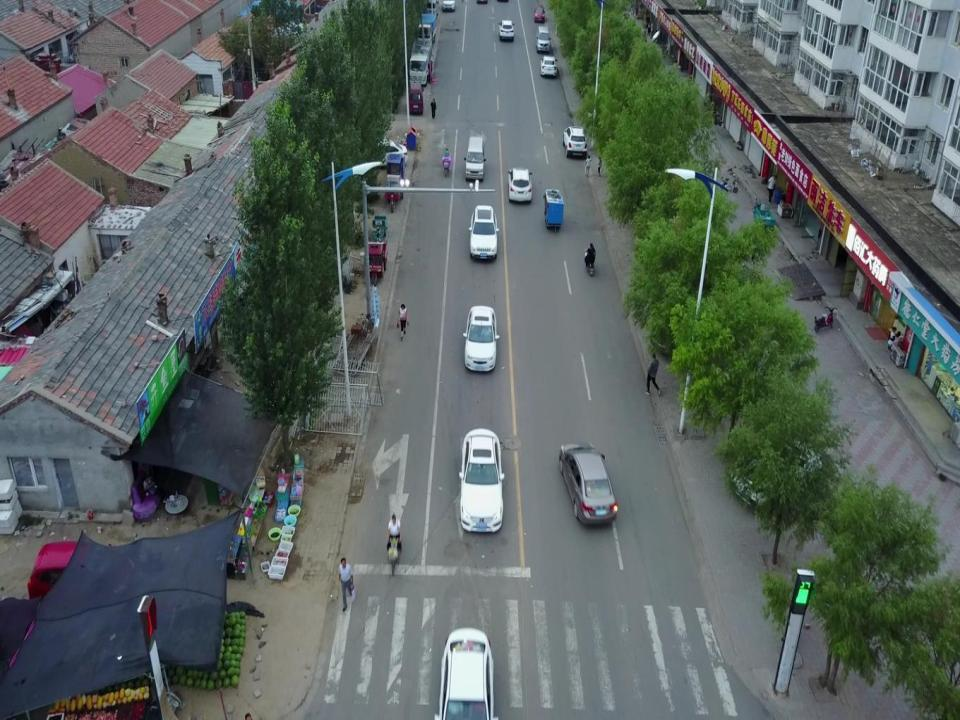car: (27, 541, 135, 617), (730, 438, 822, 508), (434, 627, 498, 720), (559, 442, 618, 526), (459, 428, 505, 533), (649, 310, 713, 356), (462, 306, 500, 372), (469, 205, 499, 260), (362, 139, 408, 170), (507, 167, 533, 203), (563, 126, 587, 159), (497, 20, 515, 41), (540, 56, 558, 77), (534, 4, 546, 22), (443, 0, 455, 12)
truck: (410, 38, 434, 86), (417, 14, 436, 49)
van: (464, 136, 486, 182), (408, 82, 424, 115), (536, 26, 551, 54), (426, 0, 439, 20)
